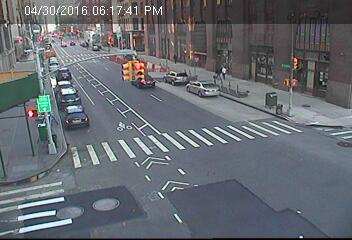neg: (62, 74, 83, 102), (226, 112, 244, 136), (1, 142, 17, 164), (257, 143, 273, 164), (292, 149, 308, 170), (136, 72, 151, 93), (123, 91, 137, 110), (37, 132, 51, 151), (257, 191, 271, 210), (82, 35, 96, 54), (113, 56, 127, 74), (78, 117, 92, 135), (245, 44, 257, 60), (63, 163, 75, 178), (199, 115, 210, 130), (260, 91, 271, 105), (167, 159, 178, 173), (216, 146, 226, 161), (289, 101, 299, 115), (133, 147, 143, 161), (283, 53, 292, 65), (104, 155, 113, 167), (126, 195, 134, 206), (21, 73, 29, 84), (62, 39, 69, 49), (174, 123, 181, 132), (315, 84, 322, 93), (321, 56, 327, 65)
pos: (209, 59, 224, 80), (218, 65, 228, 79), (171, 51, 179, 62)
